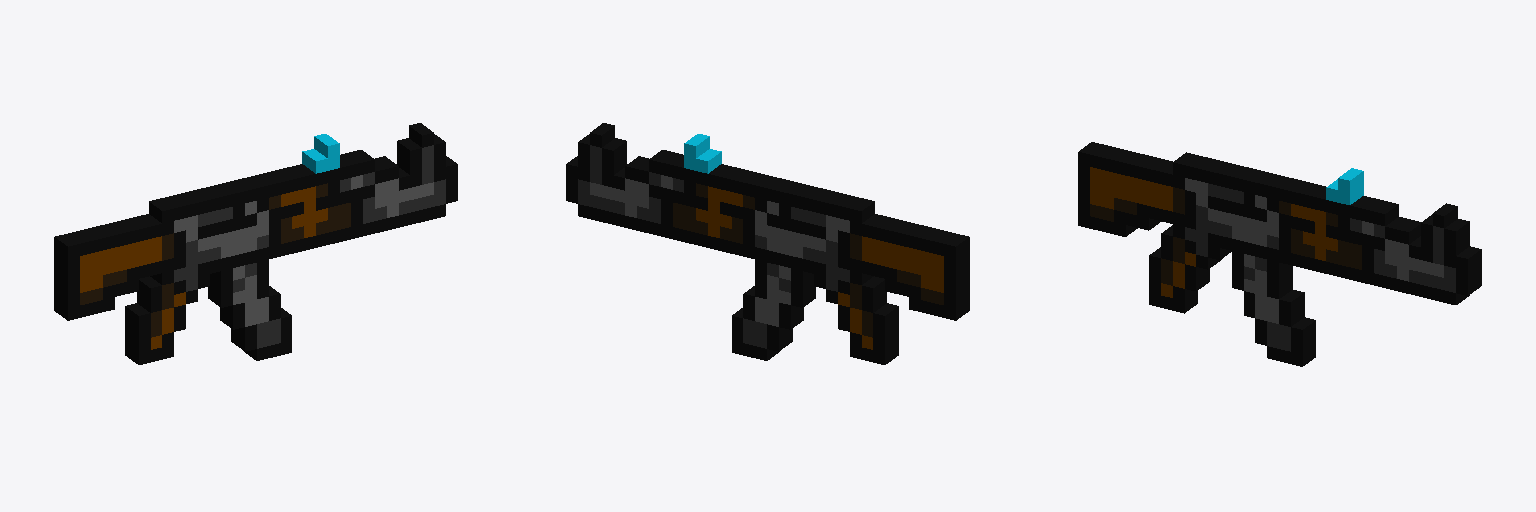
The picture shows the model from 3 angles: view 1: azimuth 30°, elevation 25°; view 2: azimuth 150°, elevation 25°; view 3: azimuth 330°, elevation 25°; orthographic projection.
Parts seen in each view (by area): view 1: object 1; view 2: object 1; view 3: object 1.
Boxes of the visible parts, <box> form: object 1: <box>54,123,457,364</box>; object 1: <box>566,123,969,364</box>; object 1: <box>1078,142,1481,366</box>.
Bounding box in the file's own units: 3.3 × 1.6 × 0.2.
Materials: 1 (1 with a texture image).